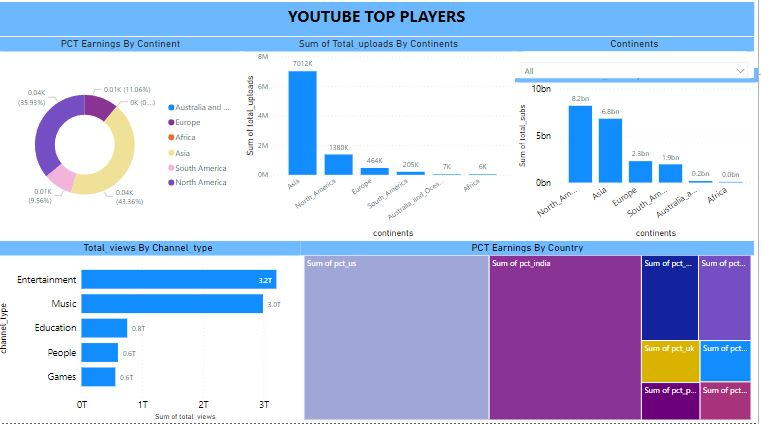

What the dashboard file says about the page in this screenshot:
{"tool":"powerbi","page":{"name":"Page 1","canvas":[1280,720],"ordinal":0},"visuals":[{"type":"donutChart","title":"PCT Earnings By Continent","fields":{"Y":["Sum(Continent Pct.pct_earnings_Australia_and_Oceania)","Sum(Continent Pct.pct_earnings_Europe)","Sum(Continent Pct.pct_earnings_africa)","Sum(Continent Pct.pct_earnings_Asia)","Sum(Continent Pct.pct_earnings_South_America)","Sum(Continent Pct.pct_earnings_North_America)"]},"box":[6.7,72.1,407.7,342.2],"z":0},{"type":"textbox","box":[6.7,13.4,1266.6,57],"z":1000},{"type":"columnChart","title":"Sum of Total_uploads By Continents","fields":{"Category":["continent count.continents"],"Y":["Sum(continent count.total_uploads)"]},"box":[414.4,72.1,458,342.2],"z":2000},{"type":"columnChart","title":"Total_subs by Continents","fields":{"Category":["continent count.continents"],"Y":["Sum(continent count.total_subs)"]},"box":[872.3,124.1,407.7,290.2],"z":2001},{"type":"clusteredBarChart","title":"Total_views By Channel_type","fields":{"Category":["Channel Type count.channel_type"],"Y":["Sum(Channel Type count.total_views)"]},"box":[0,414.4,513.3,305.3],"z":2002},{"type":"treemap","title":"PCT Earnings By Country","fields":{"Values":["Sum(Country Pct.pct_argentina)","Sum(Country Pct.pct_brazil)","Sum(Country Pct.pct_india)","Sum(Country Pct.pct_pakistan)","Sum(Country Pct.pct_russia)","Sum(Country Pct.pct_southKorea)","Sum(Country Pct.pct_uk)","Sum(Country Pct.pct_us)"]},"box":[513.3,414.4,759.9,305.3],"z":2003},{"type":"slicer","title":"Continents","fields":{"Values":["continent count.continents"]},"box":[872.3,72.1,400.9,68.8],"z":2004}]}

Visuals, with their boxes in screenshot pixels (x1, y1, x2, y2), scaled from the page's 1280x720 canvas onto the 761x424 screenshot:
"PCT Earnings By Continent" donutChart: <bbox>4, 42, 246, 244</bbox>
textbox: <bbox>4, 8, 757, 41</bbox>
"Sum of Total_uploads By Continents" columnChart: <bbox>246, 42, 519, 244</bbox>
"Total_subs by Continents" columnChart: <bbox>519, 73, 760, 244</bbox>
"Total_views By Channel_type" clusteredBarChart: <bbox>0, 244, 305, 423</bbox>
"PCT Earnings By Country" treemap: <bbox>305, 244, 757, 423</bbox>
"Continents" slicer: <bbox>519, 42, 757, 83</bbox>
